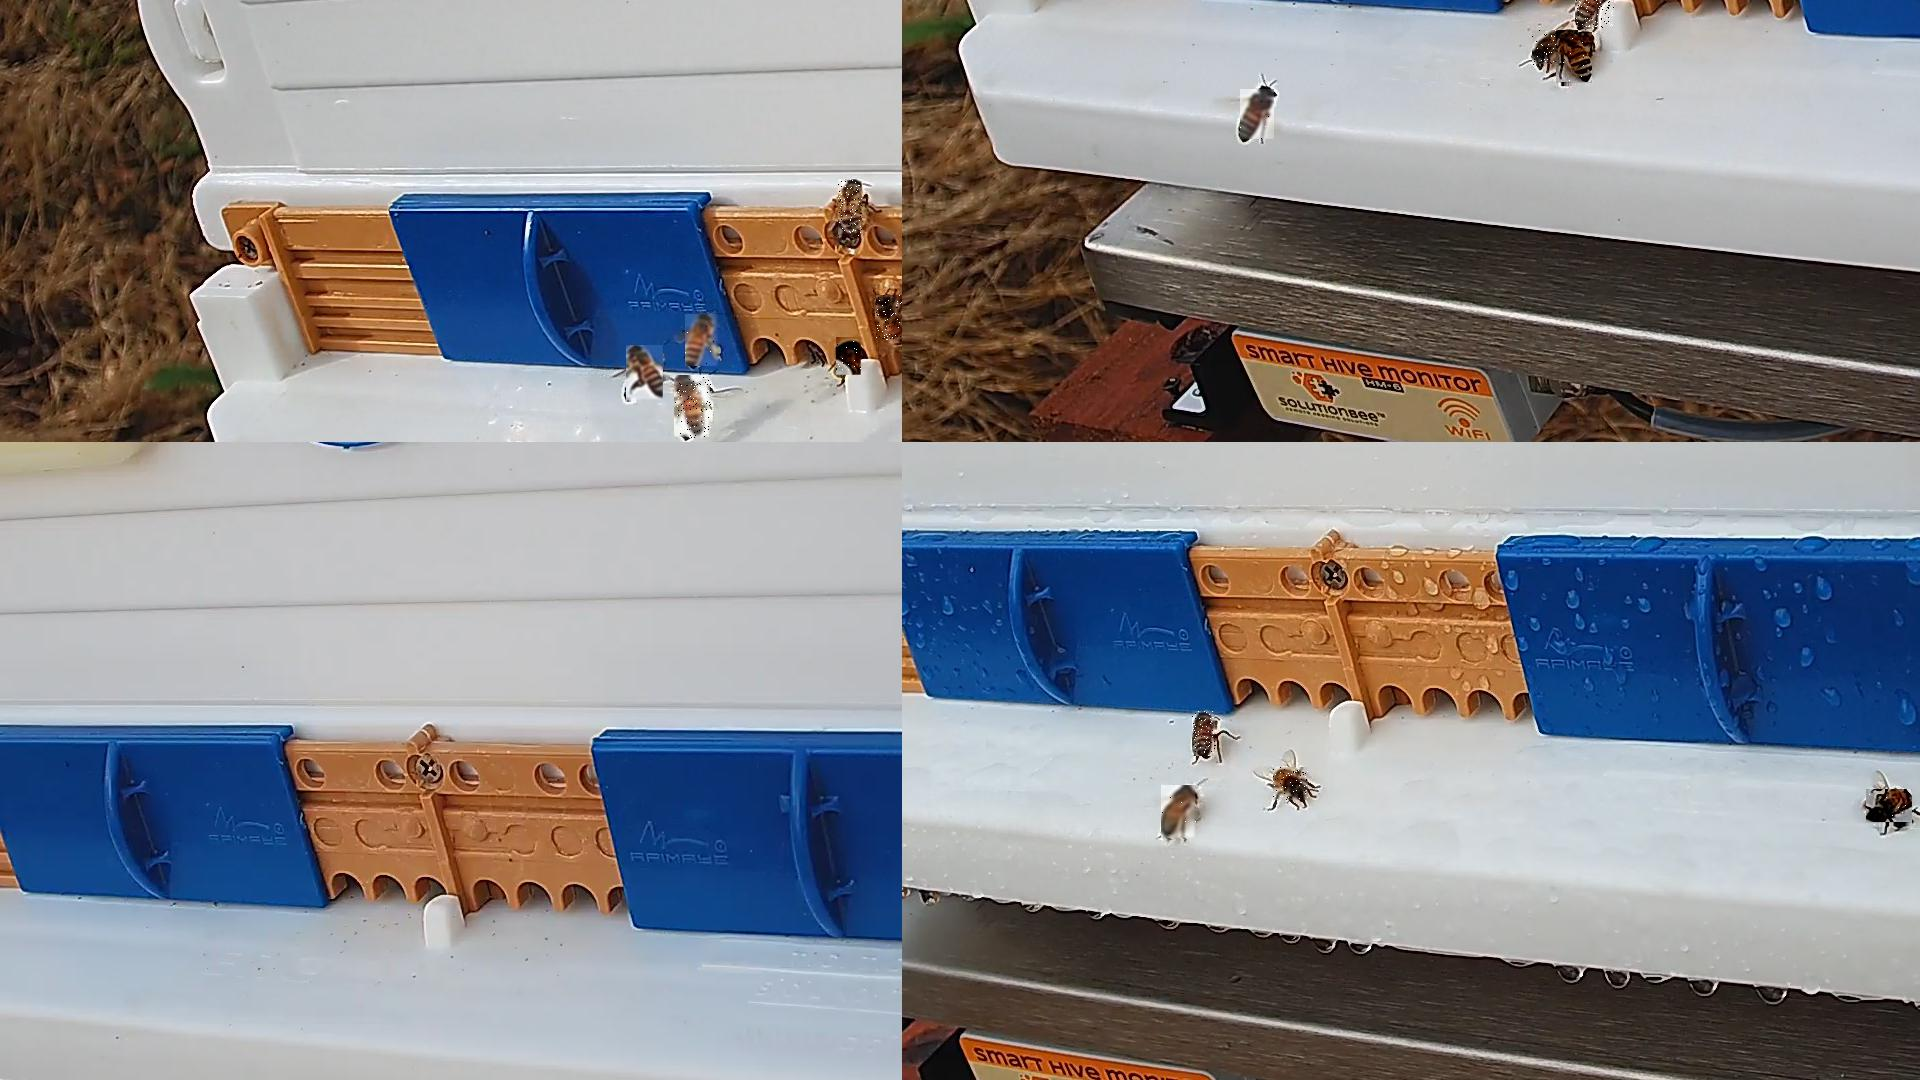bee: (626, 345, 665, 402), (1162, 786, 1199, 841), (1556, 33, 1593, 87), (1532, 30, 1580, 67), (1866, 790, 1913, 827), (1241, 90, 1275, 140), (839, 179, 862, 237), (1575, 0, 1615, 30), (876, 295, 901, 344), (1273, 767, 1309, 800), (1193, 711, 1218, 757), (836, 338, 862, 376)
pollenbee: (675, 376, 713, 440), (686, 314, 721, 367)
